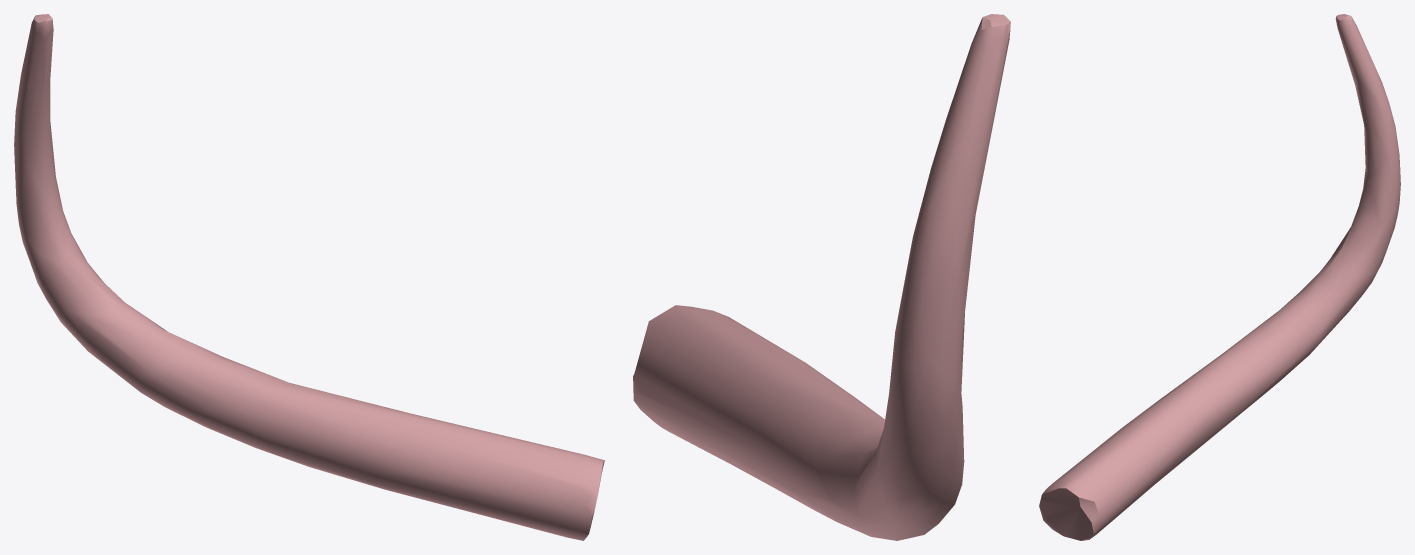
The model's file is fma68213_fj6568.glb.
The picture shows the model from 3 angles, left to right: view 1: azimuth 30°, elevation 25°; view 2: azimuth 150°, elevation 25°; view 3: azimuth 270°, elevation 25°; orthographic projection. The views are drawn at different scales.
Parts seen in each view (by area): view 1: FMA68213_FJ6568; view 2: FMA68213_FJ6568; view 3: FMA68213_FJ6568.
Part boxes in pixels (<box>): FMA68213_FJ6568: <box>14,14,604,540</box>; FMA68213_FJ6568: <box>633,14,1010,540</box>; FMA68213_FJ6568: <box>1039,14,1400,540</box>.
Bounding box in the file's own units: 0.041 × 0.0466 × 0.04.
